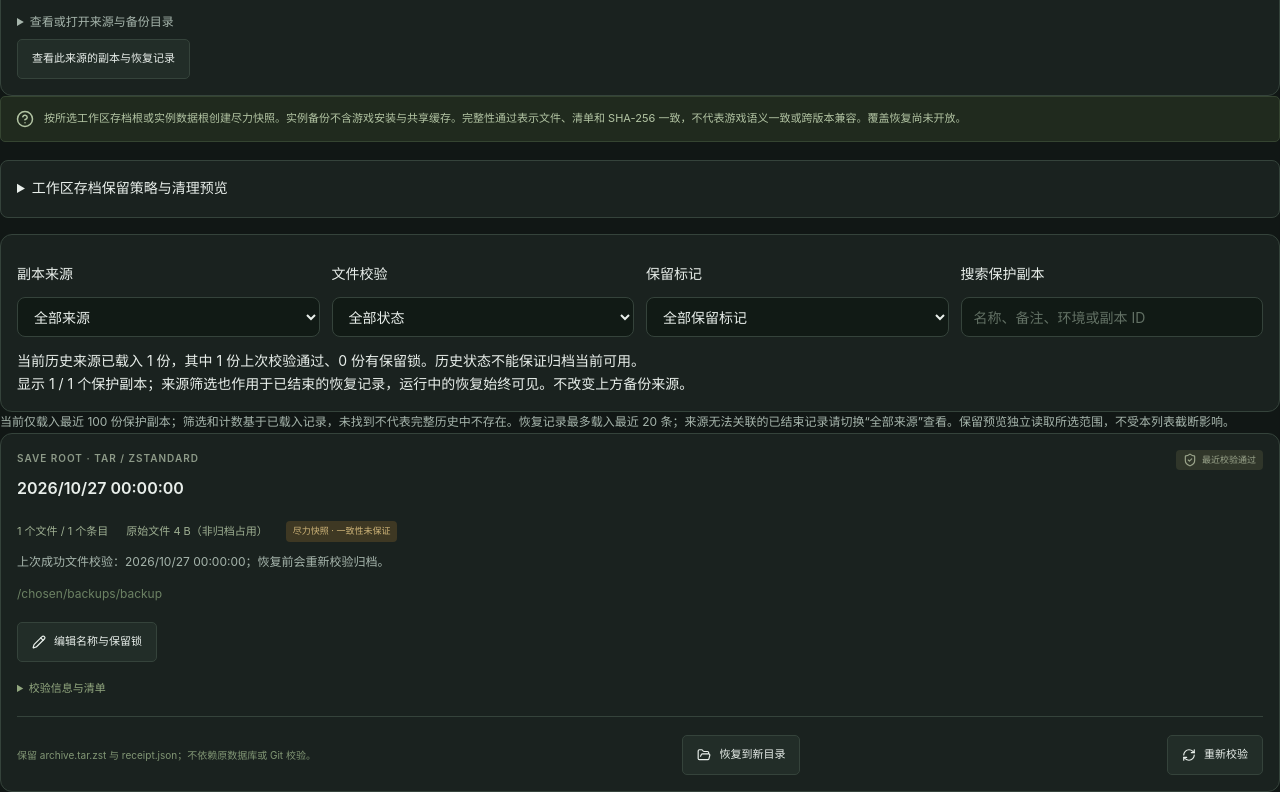
Scenario: full backup confirmation and integrity display › cancelling annotation edits never saves a name or lock
(page scrolled)
Step 1. Click the button "编辑名称与保留锁" → (87, 642), box [17,622,157,662]
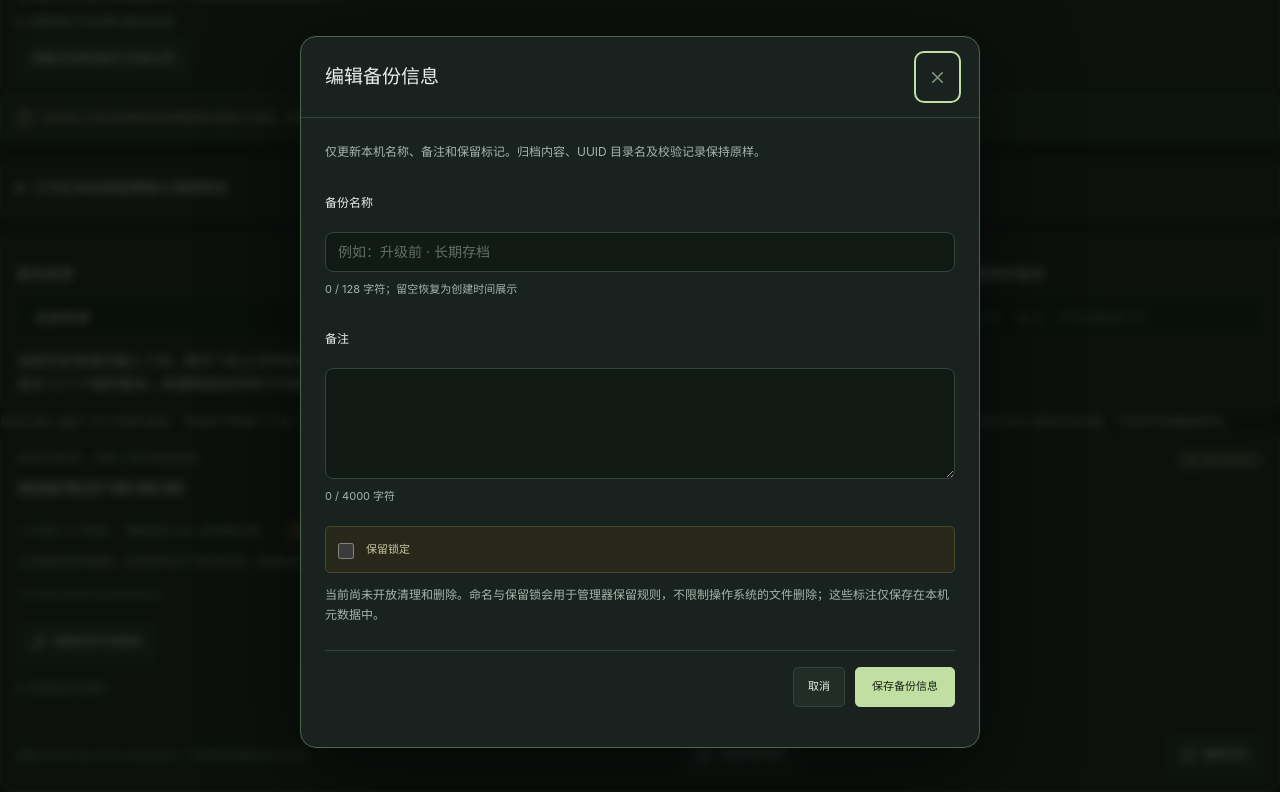
Step 2. Type "draft" into the field labelled "备份名称" → (640, 252), box [325,232,955,272]
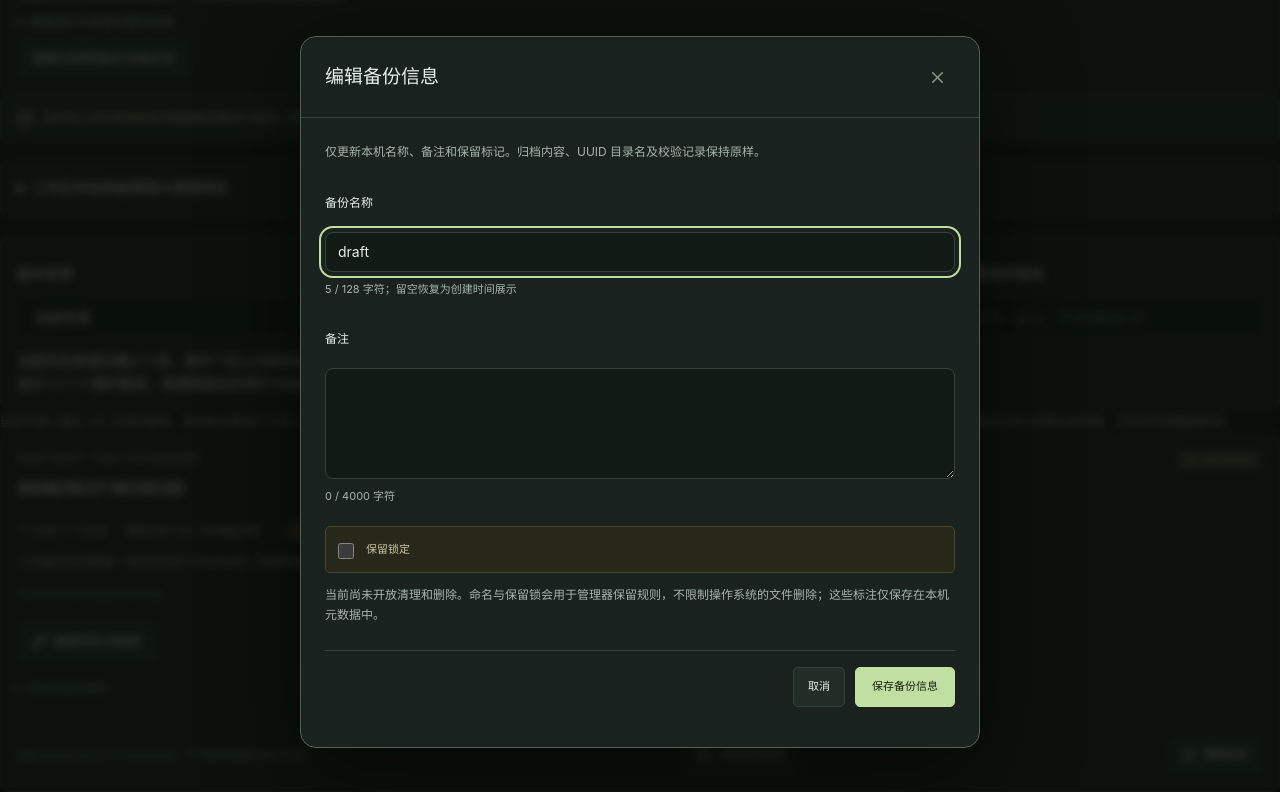
Step 3. Click the button "取消" → (819, 687), box [793,667,845,707]
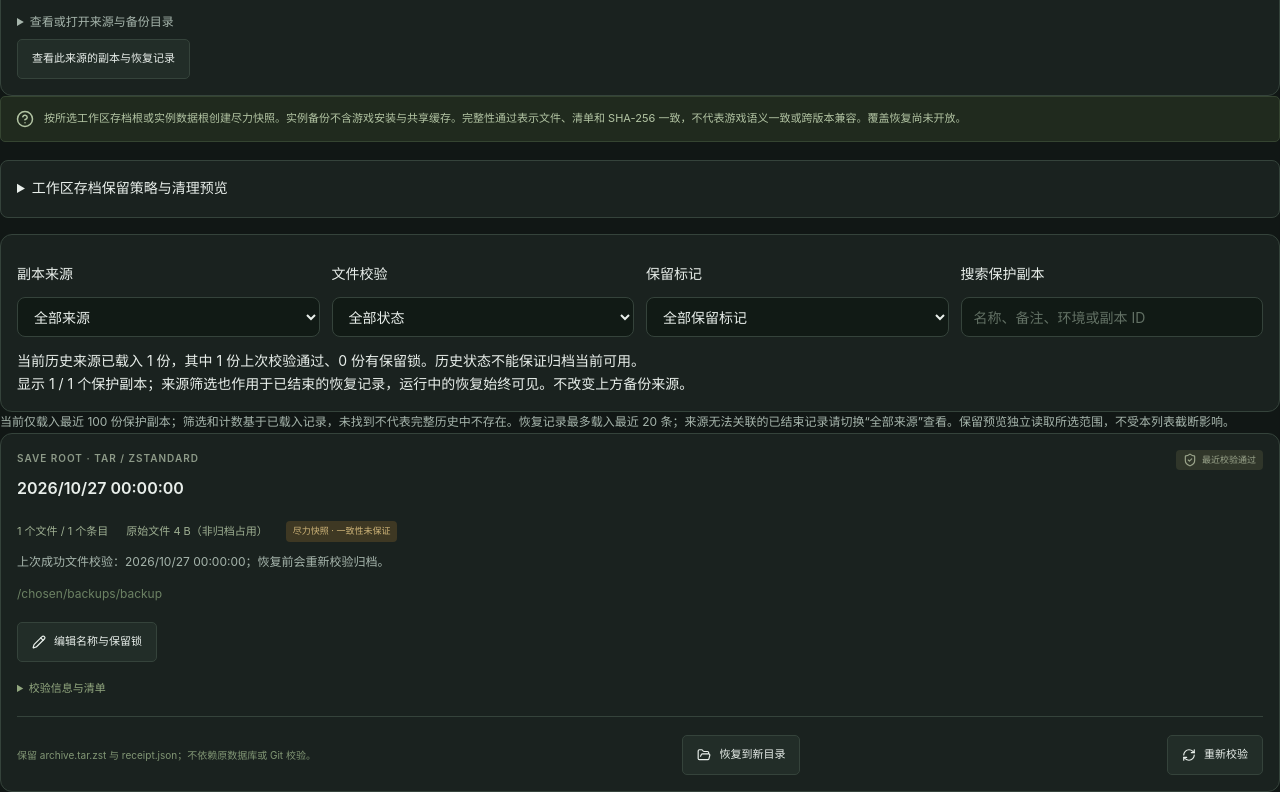
Check: the dialog is gone
